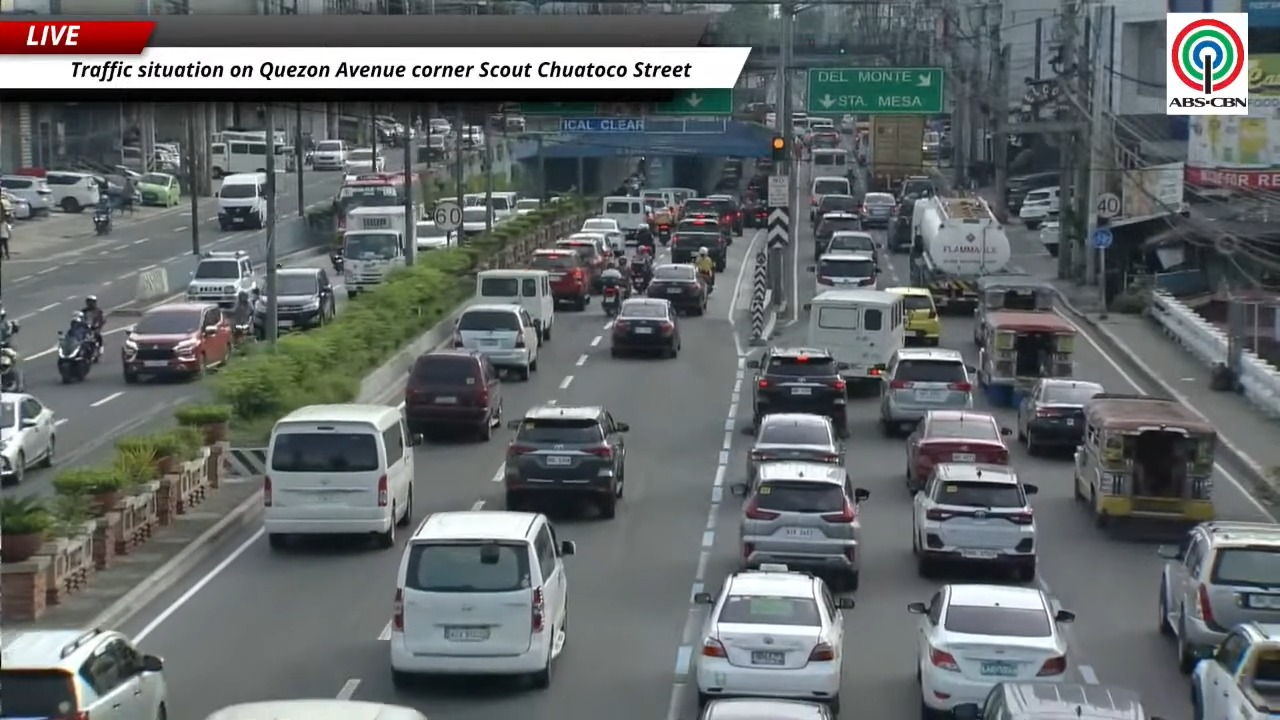bus: (209, 132, 266, 178)
car: (389, 510, 574, 688), (694, 564, 854, 714), (907, 584, 1074, 717), (1158, 521, 1279, 673), (731, 462, 869, 590), (0, 629, 168, 719), (913, 462, 1037, 581), (503, 405, 629, 518), (121, 302, 232, 383), (747, 347, 847, 436), (404, 349, 501, 440), (906, 410, 1011, 492), (880, 347, 973, 436), (954, 681, 1155, 719), (746, 413, 843, 485), (1017, 378, 1104, 454), (453, 304, 540, 380), (0, 392, 55, 483), (205, 698, 426, 719), (186, 250, 258, 308), (611, 298, 680, 357), (529, 248, 591, 310), (277, 267, 335, 331), (555, 232, 610, 292), (886, 288, 941, 346), (646, 264, 707, 315), (669, 220, 726, 271), (700, 697, 832, 719), (809, 252, 878, 294), (813, 210, 861, 261), (1006, 170, 1060, 213), (45, 171, 100, 212), (682, 195, 740, 233), (0, 175, 52, 215), (672, 211, 731, 244), (809, 175, 851, 220), (1018, 186, 1059, 230), (814, 212, 862, 247), (580, 217, 624, 252), (813, 194, 858, 228), (136, 173, 180, 207), (708, 193, 743, 235), (415, 219, 456, 252), (823, 232, 877, 256), (860, 192, 897, 227), (343, 147, 384, 174), (461, 206, 496, 237), (311, 140, 347, 170), (896, 175, 937, 201), (0, 191, 32, 218), (1038, 220, 1060, 257), (744, 199, 768, 228), (515, 198, 541, 215)
motorcycle: (57, 331, 97, 383), (0, 321, 23, 391), (231, 289, 259, 344), (0, 347, 22, 391), (601, 285, 621, 317), (92, 208, 111, 235), (329, 249, 344, 274), (699, 271, 714, 295), (631, 273, 649, 293), (657, 224, 670, 246)
truck: (909, 194, 1010, 313), (1191, 623, 1279, 719), (867, 115, 925, 193), (415, 210, 419, 216)
